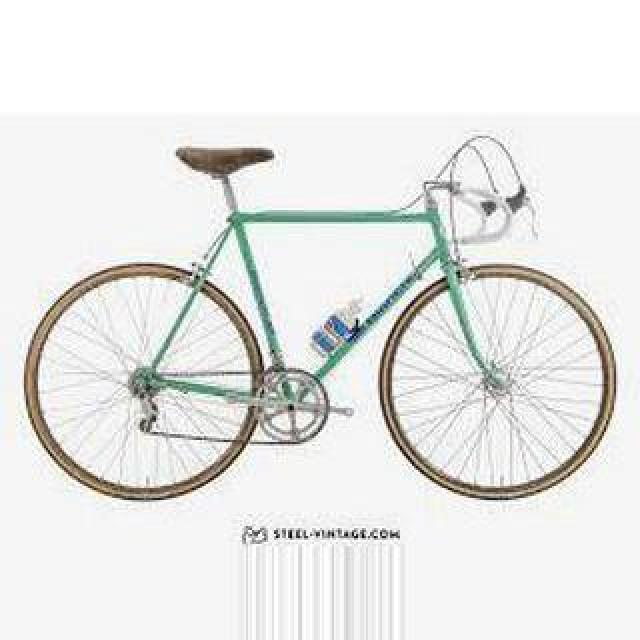Person: (19, 133, 623, 505)
